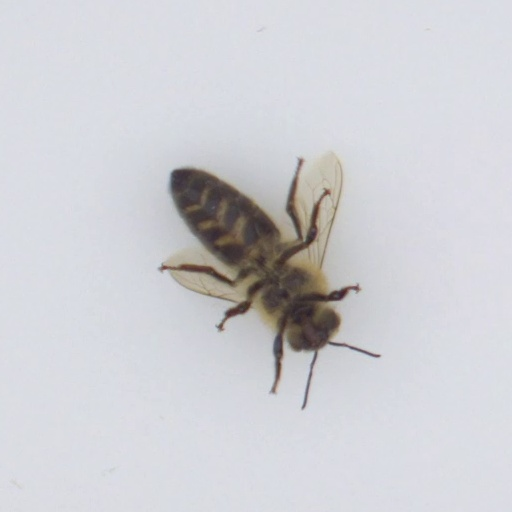Bee: (147, 147, 358, 376)
